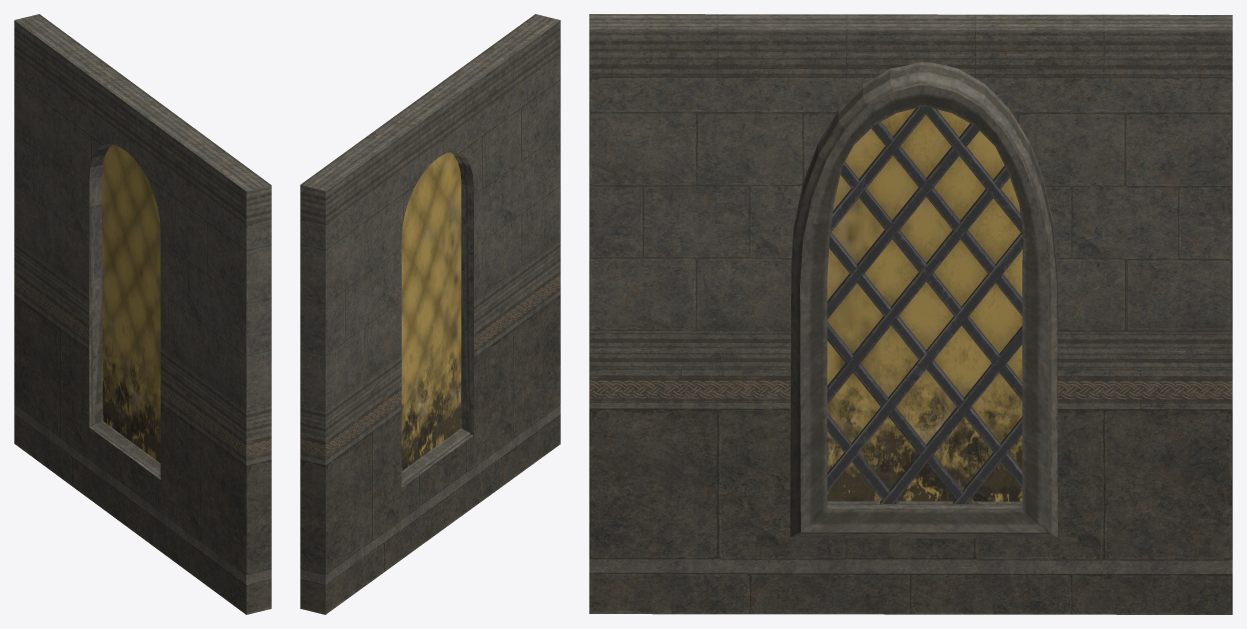
File: WindowBig.fbx
3 renders of one model, left to right at view 1: azimuth 30°, elevation 25°; view 2: azimuth 150°, elevation 25°; view 3: azimuth 270°, elevation 25°, orthographic. The views are drawn at different scales.
Parts seen in each view (by area): view 1: Wall_Window_Big.001, Window_Big.001; view 2: Wall_Window_Big.001, Window_Big.001; view 3: Wall_Window_Big.001, Window_Big.001.
Part boxes in pixels (<box>): Wall_Window_Big.001: <box>14,14,271,614</box>; Window_Big.001: <box>102,144,160,463</box>; Wall_Window_Big.001: <box>300,14,560,614</box>; Window_Big.001: <box>401,152,461,470</box>; Wall_Window_Big.001: <box>589,14,1232,614</box>; Window_Big.001: <box>827,107,1023,503</box>.
Size of the model in its own units: 41.03 by 400 by 400.
